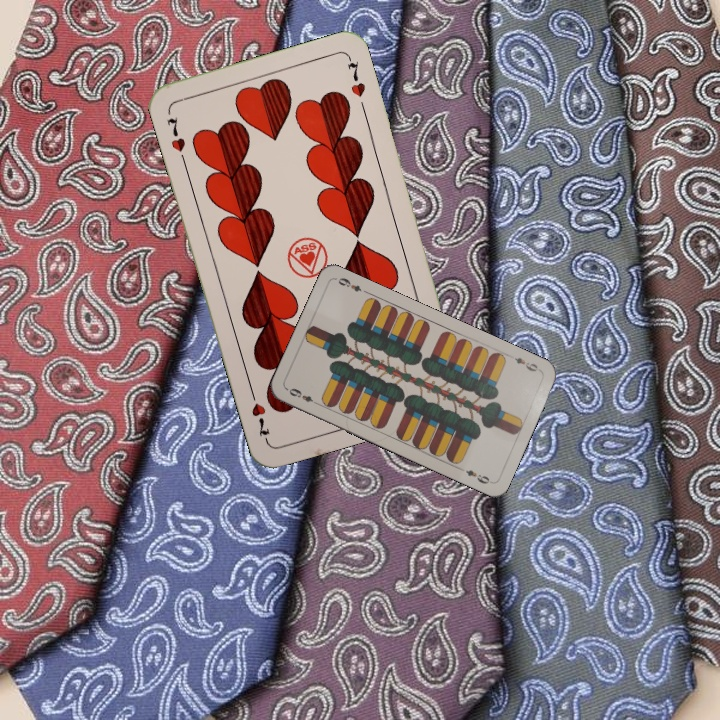E9: (505, 351, 543, 374), (285, 384, 322, 407)
H7: (163, 114, 189, 166)
